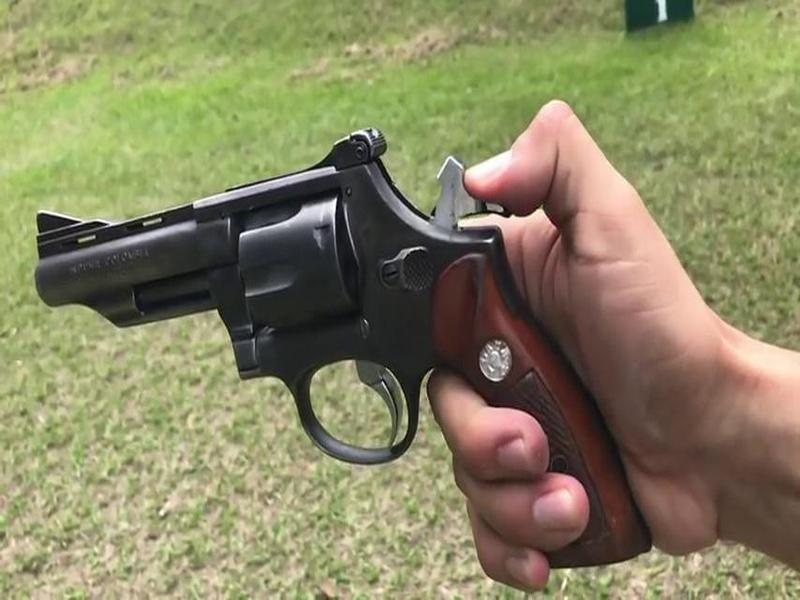Revolver: (49, 119, 651, 566)
